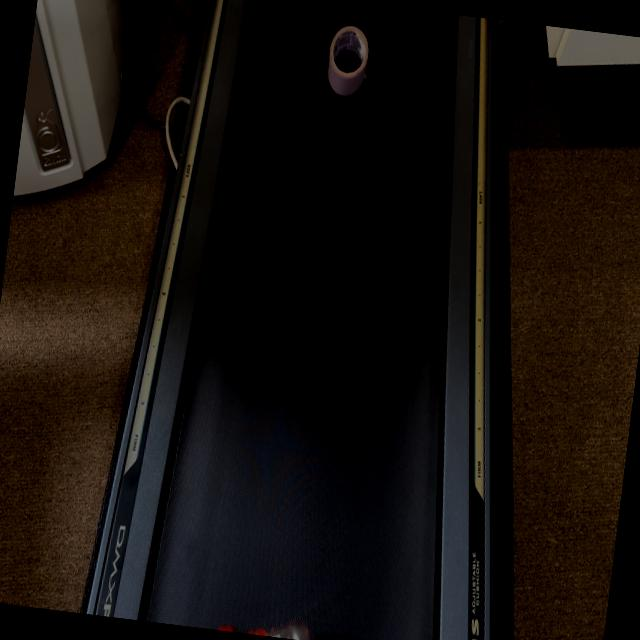Trash: (321, 18, 374, 100)
